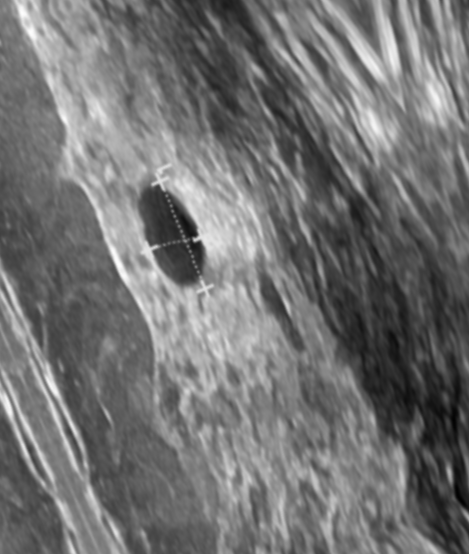Benign: (132, 179, 209, 291)
